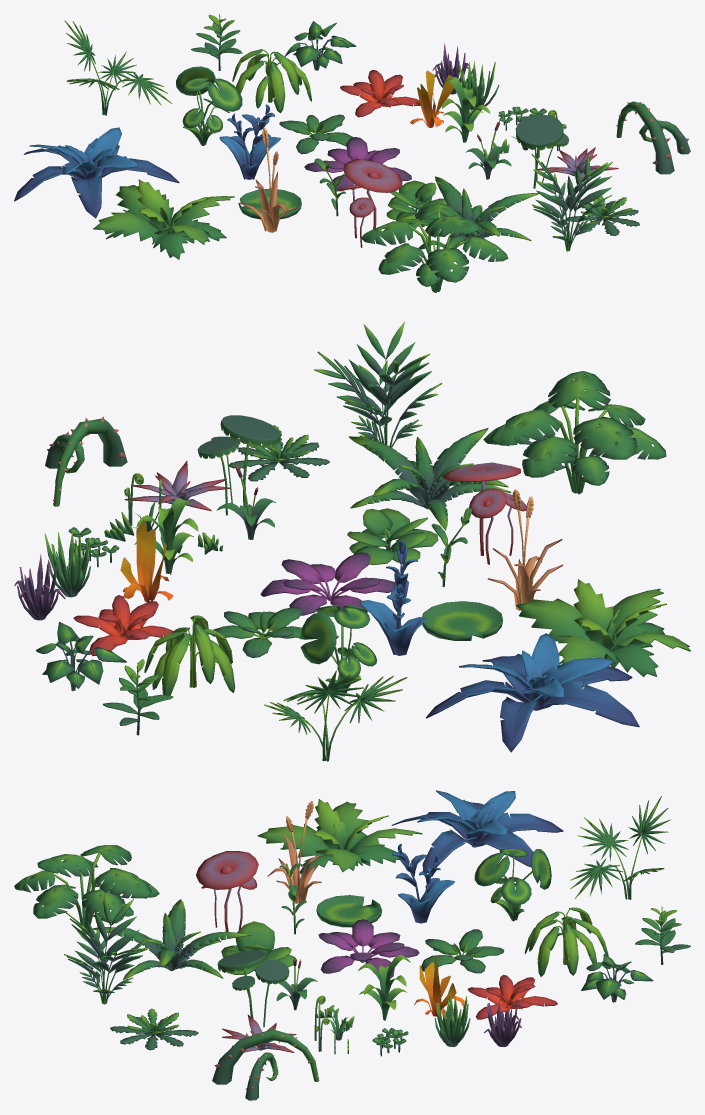
The model's file is Plants.fbx.
3 renders of one model, top to bottom at view 1: azimuth 30°, elevation 25°; view 2: azimuth 150°, elevation 25°; view 3: azimuth 270°, elevation 25°, orthographic. The views are drawn at different scales.
Parts seen in each view (by area): view 1: Plane.027, Plane.028, Plane.022, Plane.029, Plane.016, Plane.018, Plane.007, Plane.021, Plane.025, Plane.015, Plane.008, Plane.019 (+17 smaller); view 2: Plane.027, Plane.022, Plane.028, Plane.029, Plane.018, Plane, Plane.007, Plane.016, Plane.006, Plane.025, Plane.021, Plane.008 (+18 smaller); view 3: Plane.027, Plane.028, Plane.022, Plane.029, Plane.018, Plane.016, Plane.025, Plane, Plane.007, Plane.021, Plane.019, Plane.005 (+17 smaller).
Boxes of the visible parts, bbox=[...] form: Plane.027: bbox=[361, 203, 508, 292]; Plane.028: bbox=[93, 179, 234, 259]; Plane.022: bbox=[14, 127, 179, 218]; Plane.029: bbox=[531, 154, 612, 251]; Plane.016: bbox=[176, 66, 242, 145]; Plane.018: bbox=[398, 176, 538, 249]; Plane.007: bbox=[232, 49, 311, 113]; Plane.021: bbox=[338, 159, 402, 247]; Plane.025: bbox=[64, 20, 171, 115]; Plane.015: bbox=[219, 104, 280, 179]; Plane.008: bbox=[340, 70, 420, 117]; Plane.019: bbox=[515, 114, 568, 188]; Plane.027: bbox=[483, 371, 666, 494]; Plane.022: bbox=[426, 633, 639, 752]; Plane.028: bbox=[515, 579, 690, 676]; Plane.029: bbox=[314, 322, 442, 447]; Plane.018: bbox=[348, 428, 511, 530]; Plane: bbox=[260, 552, 394, 615]; Plane.007: bbox=[144, 615, 235, 695]; Plane.016: bbox=[299, 605, 376, 696]; Plane.006: bbox=[347, 508, 438, 564]; Plane.025: bbox=[264, 670, 407, 761]; Plane.021: bbox=[443, 462, 526, 564]; Plane.008: bbox=[73, 595, 173, 656]; Plane.027: bbox=[14, 845, 159, 934]; Plane.028: bbox=[257, 799, 422, 875]; Plane.022: bbox=[391, 790, 563, 873]; Plane.029: bbox=[64, 895, 149, 1004]; Plane.018: bbox=[93, 899, 251, 979]; Plane.016: bbox=[474, 848, 551, 921]; Plane.025: bbox=[570, 796, 670, 899]; Plane: bbox=[318, 919, 419, 978]; Plane.007: bbox=[524, 907, 608, 976]; Plane.021: bbox=[196, 851, 258, 935]; Plane.019: bbox=[217, 950, 289, 1027]; Plane.005: bbox=[421, 929, 504, 973].
Size of the model in its own units: 5.91 by 1 by 5.91.
